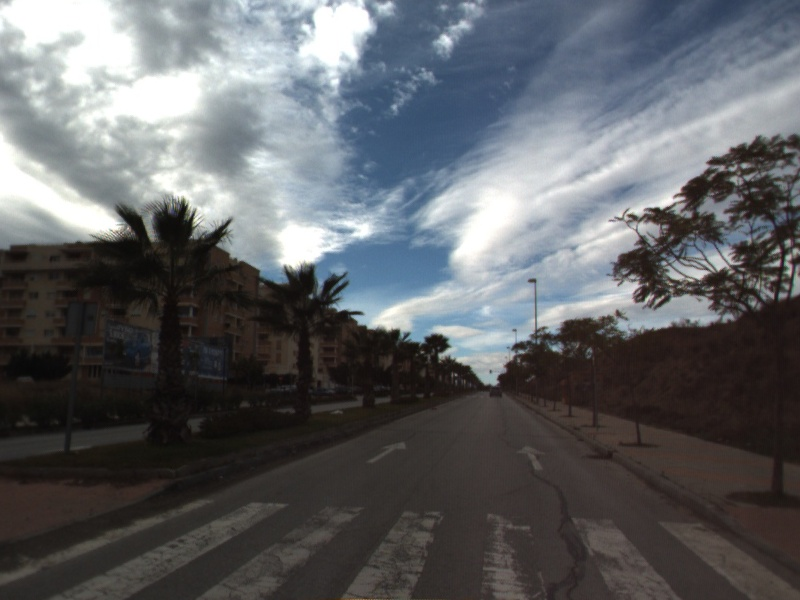STRAIGHT: (364, 439, 408, 465), (514, 443, 548, 472)
